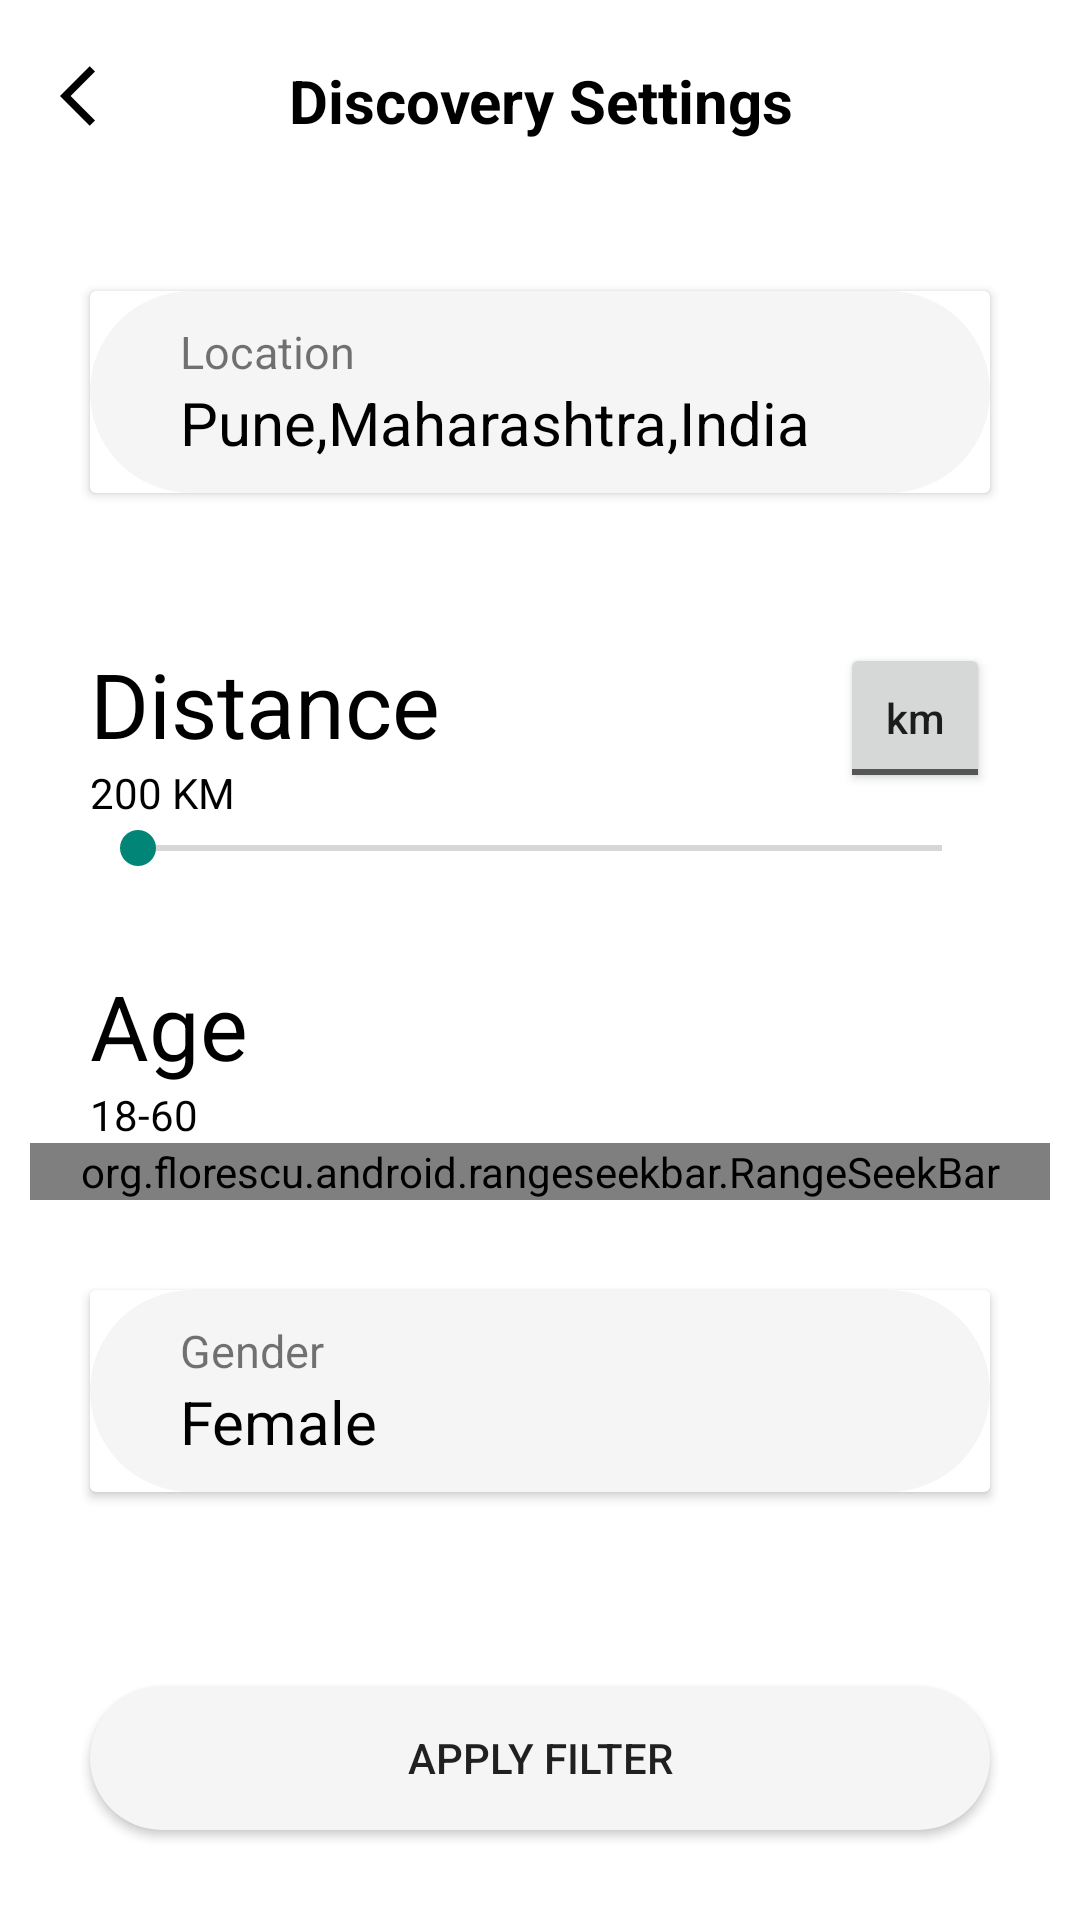

Locate icon controls on the screen. Image size 1080x1920, boxes as rect(x1, y1, x2, y2).
arrow: rect(60, 66, 95, 126)
